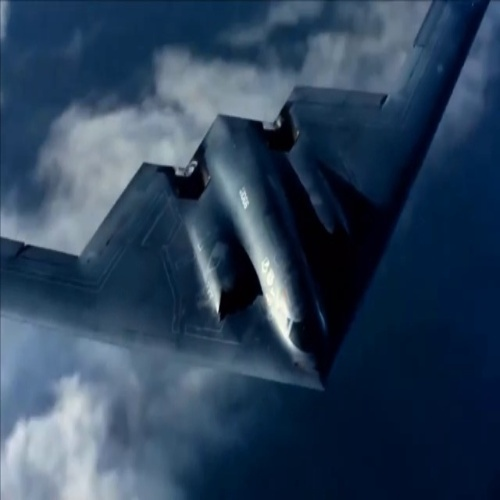uav: (3, 4, 493, 396)
